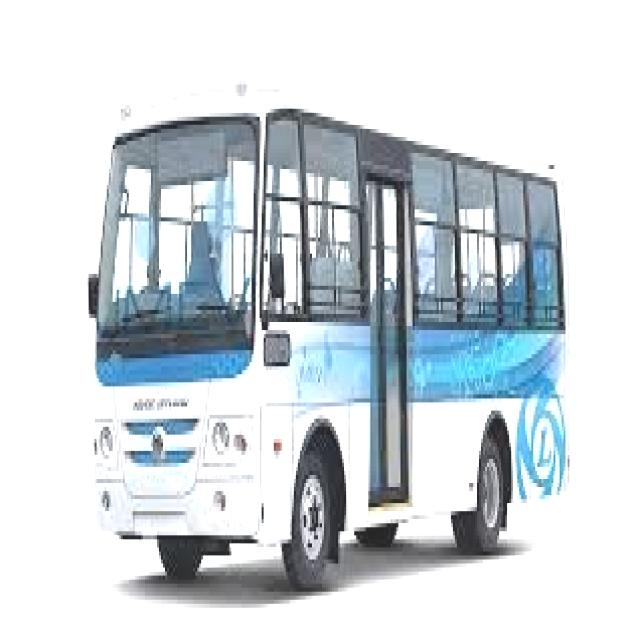bus: (73, 48, 596, 595)
